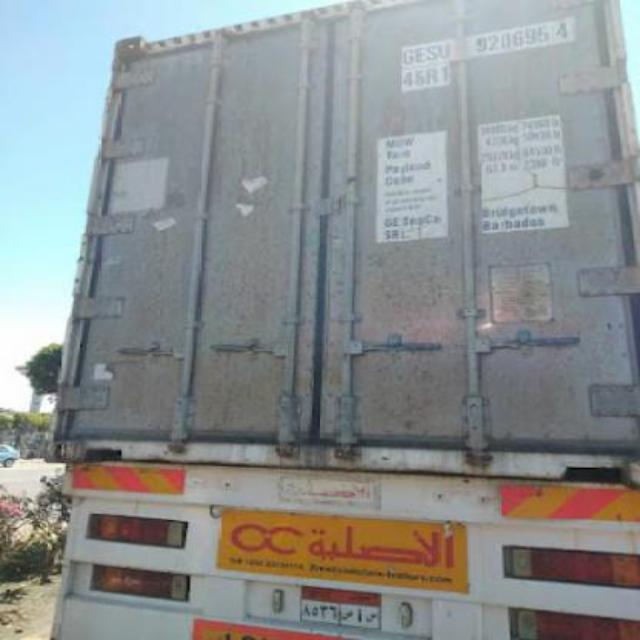0: (498, 30, 512, 50)
2: (488, 32, 498, 52)
4: (558, 21, 570, 41)
5: (538, 25, 550, 45)
6: (511, 28, 524, 48)
9: (474, 36, 488, 54), (524, 27, 536, 47)
E: (414, 45, 428, 65)
G: (402, 46, 414, 66)
S: (426, 44, 438, 60)
U: (436, 42, 452, 58)
